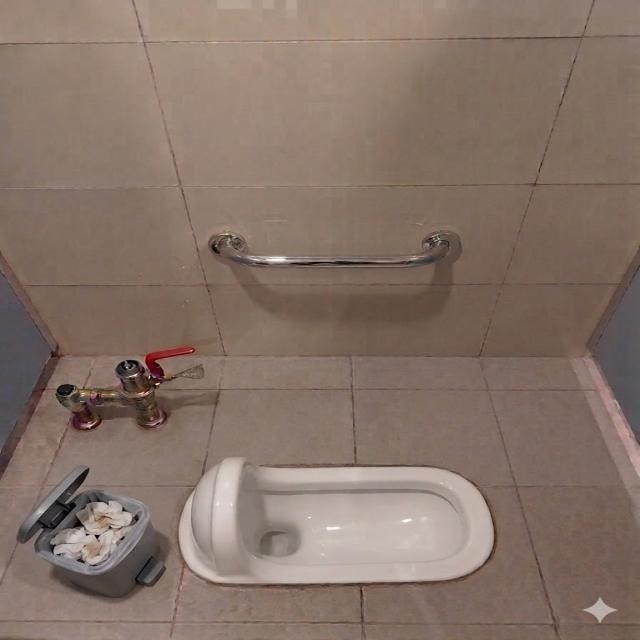garbage: (12, 455, 176, 605)
